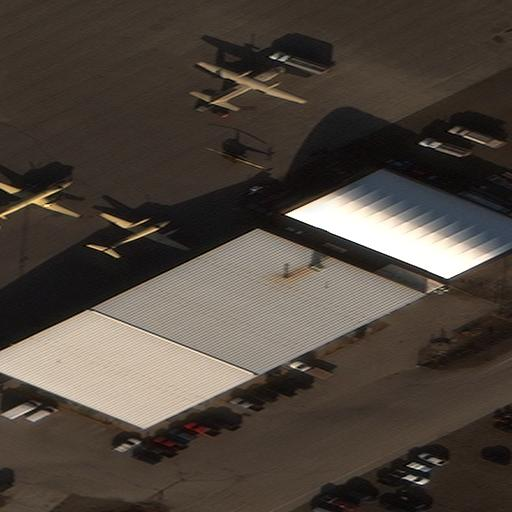Medium Civil Transport: (202, 61, 306, 105), (102, 212, 190, 253), (0, 178, 81, 222)
